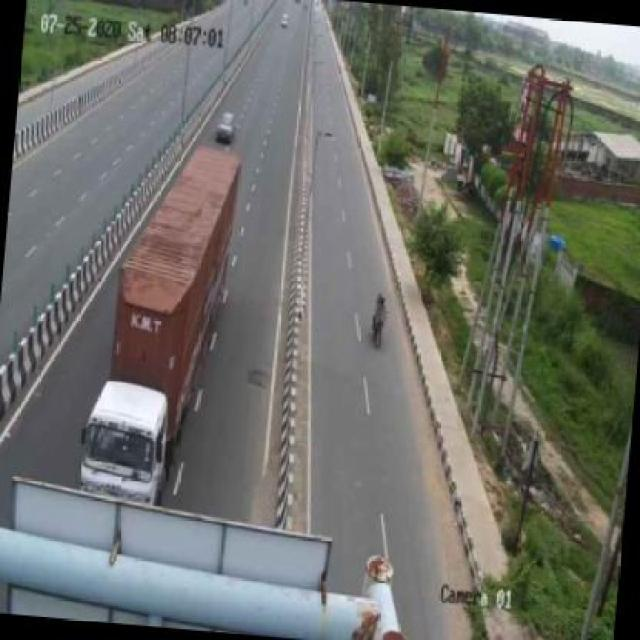car: (214, 111, 238, 146)
